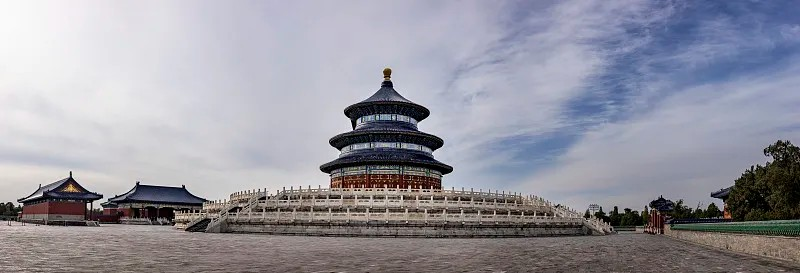Heaven: (320, 67, 454, 191)
